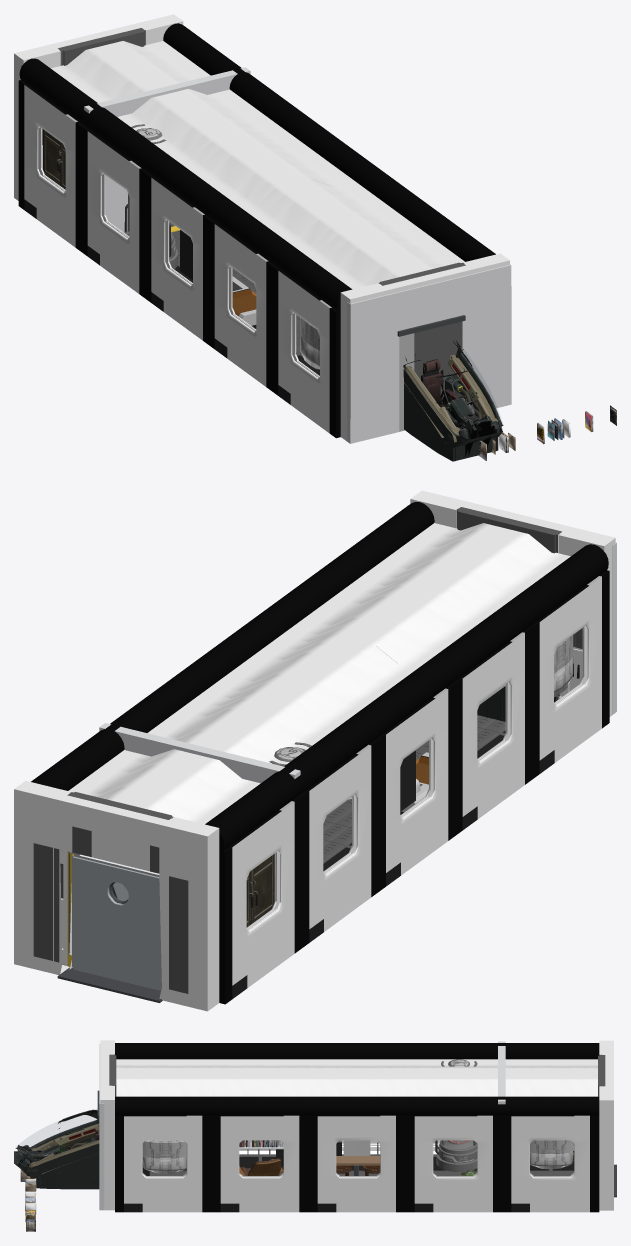
The picture shows the model from 3 angles, top to bottom: view 1: azimuth 30°, elevation 25°; view 2: azimuth 150°, elevation 25°; view 3: azimuth 270°, elevation 25°; orthographic projection. The views are drawn at different scales.
Parts seen in each view (by area): view 1: highpolywall11, fwd_L, fwd_R, cockpit, center, fwd_T, part_L, R1_galley, R1_suitlocker, R1_deckconsoleL, R1_capsule, part_R; view 2: highpolywall11, IT_hatchdoor, R1_suitlocker, R1_galley, hatch_sill, part_R, part_L, R1_deckconsoleL, fwd_L, part_T; view 3: highpolywall11, cockpit, R1_capsule, R1_deckconsoleR, R1_aftconsole, center, fwd_R, R1_galley, R1_mid_century_lounge_chair, ledge_top.
Boxes of the visible parts, <box> form: highpolywall11: <box>14,14,509,442</box>; fwd_L: <box>347,292,399,443</box>; fwd_R: <box>462,264,511,408</box>; cockpit: <box>403,355,502,461</box>; center: <box>403,340,503,456</box>; fwd_T: <box>399,276,462,330</box>; part_L: <box>84,94,140,232</box>; R1_galley: <box>180,230,256,328</box>; R1_suitlocker: <box>43,129,65,189</box>; R1_deckconsoleL: <box>300,317,319,369</box>; R1_capsule: <box>124,124,177,268</box>; part_R: <box>194,67,250,94</box>; highpolywall11: <box>14,490,615,1011</box>; IT_hatchdoor: <box>72,854,161,990</box>; R1_suitlocker: <box>246,854,274,927</box>; R1_galley: <box>348,684,505,814</box>; hatch_sill: <box>57,967,162,1002</box>; part_R: <box>99,723,167,900</box>; part_L: <box>232,755,300,901</box>; R1_deckconsoleL: <box>554,635,573,697</box>; fwd_L: <box>612,542,616,714</box>; part_T: <box>161,738,237,770</box>; highpolywall11: <box>100,1040,613,1212</box>; cockpit: <box>14,1123,149,1189</box>; R1_capsule: <box>435,1059,477,1171</box>; R1_deckconsoleR: <box>142,1140,186,1173</box>; R1_aftconsole: <box>530,1140,574,1169</box>; center: <box>15,1109,99,1176</box>; fwd_R: <box>99,1085,104,1210</box>; R1_galley: <box>276,1140,370,1164</box>; R1_mid_century_lounge_chair: <box>239,1158,283,1175</box>; ledge_top: <box>336,1156,380,1165</box>.
Size of what is drawn, in the model's own units: 4.01 by 2.52 by 12.32.
124 materials, 105 textured.
